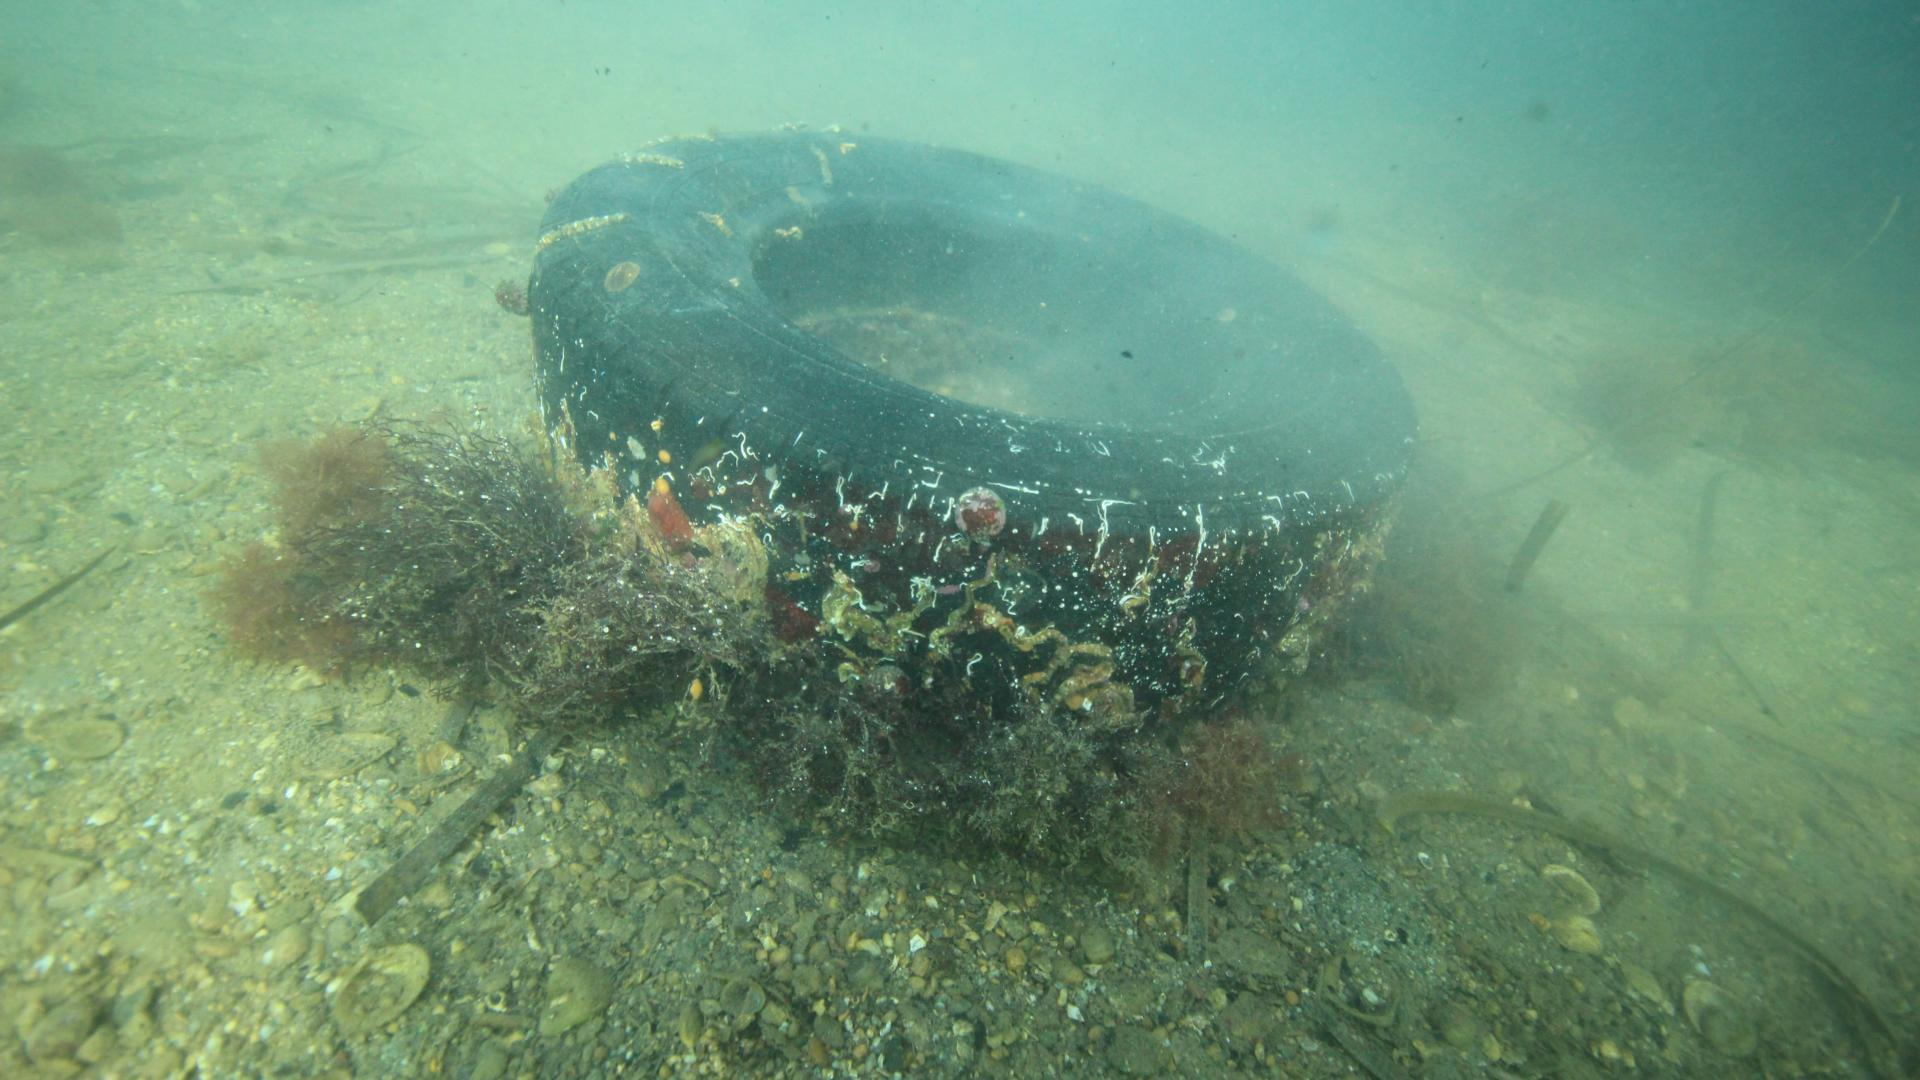tire: (539, 136, 1425, 712)
